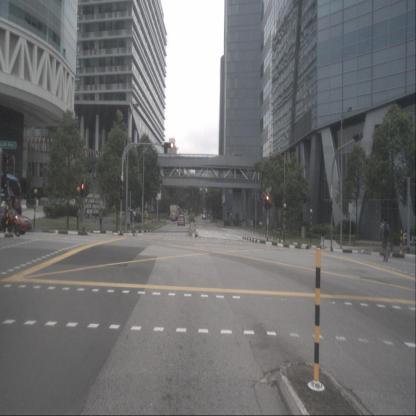human-pedestrian-adult: (380, 216, 392, 262), (320, 224, 326, 250), (98, 206, 103, 232), (129, 208, 132, 226), (133, 209, 136, 225)
vehicle-bus-rigid: (0, 172, 22, 231)
vehicle-car: (0, 202, 32, 236), (178, 214, 185, 226)
vehicle-motorcycle: (0, 197, 21, 237)
vehicle-truck: (170, 205, 180, 221)
